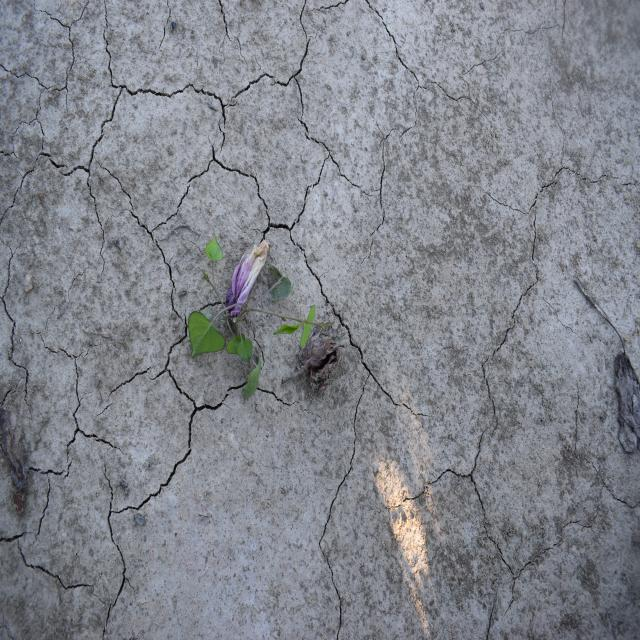MorningGlory: (187, 232, 332, 400)
